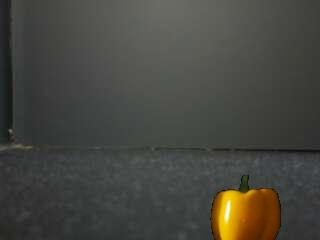Capsicum: (206, 171, 282, 240)
